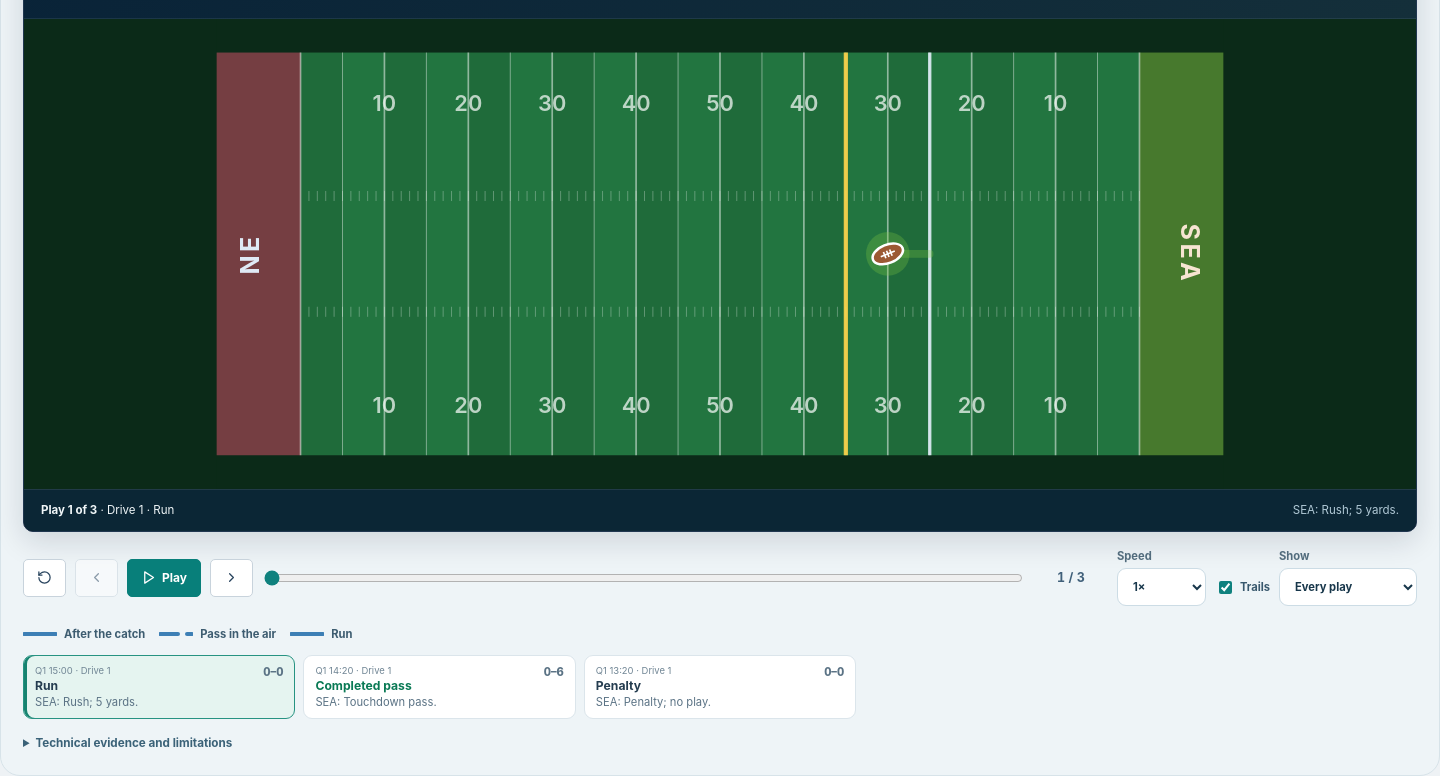
play theater › scrubs directly to any play
The width and height of the screenshot is (1440, 776).
(page scrolled)
Set the slider with test id "play-scrubber" to "2": point(1015, 578) left=264, top=570, right=1023, bottom=586
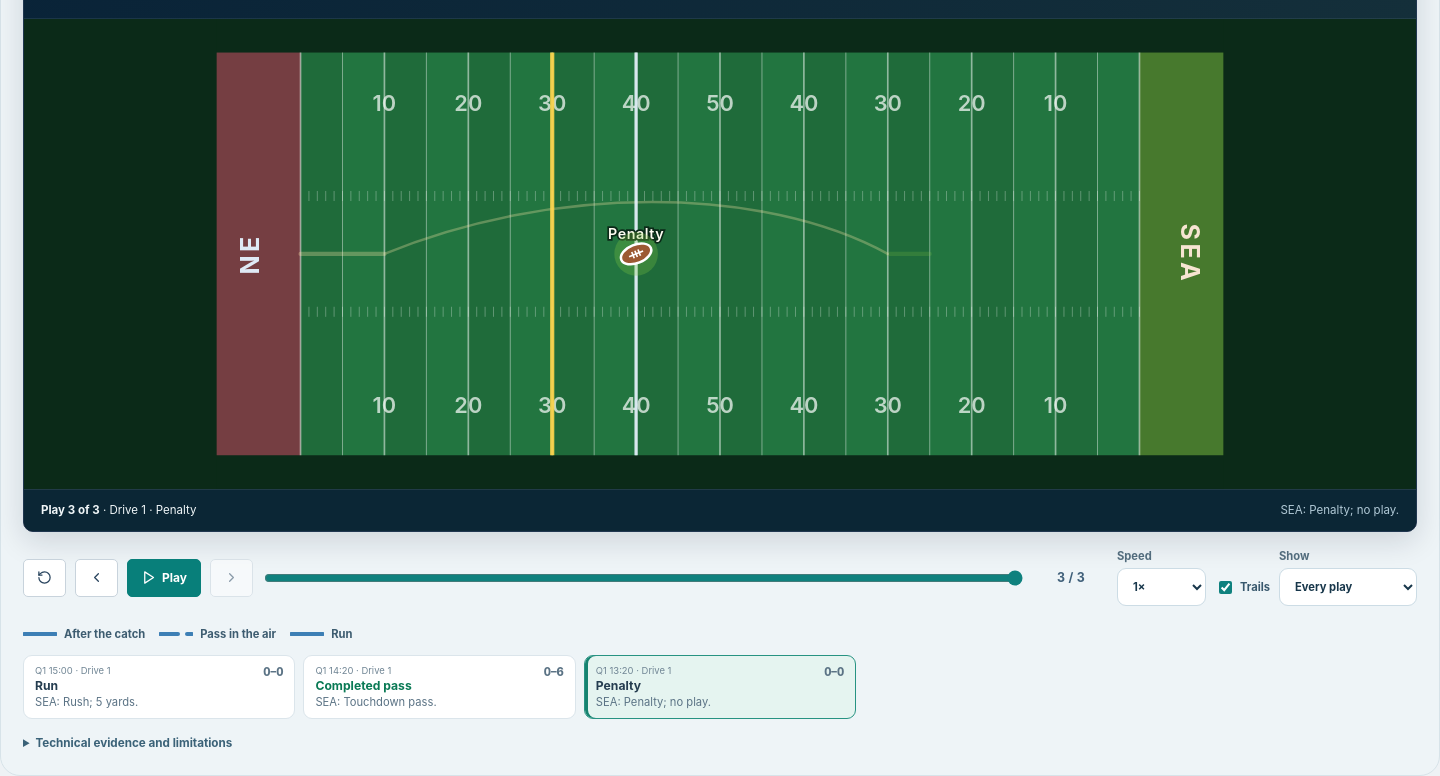
Check: the element with test id "play-description" shows "Play 3 of 3", box left=41, top=502, right=196, bottom=519
